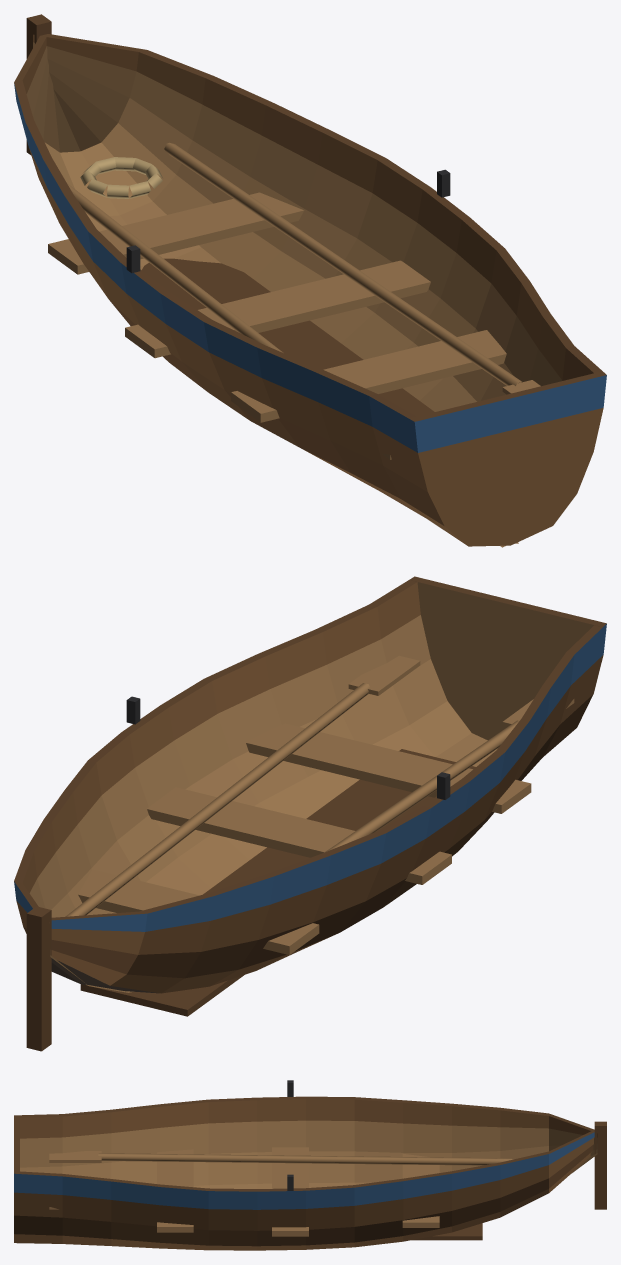
File: rowboat.glb
3 renders of one model, top to bottom at view 1: azimuth 30°, elevation 25°; view 2: azimuth 150°, elevation 25°; view 3: azimuth 270°, elevation 25°, orthographic. The views are drawn at different scales.
Visible parts, largest first — view 1: Hull; view 2: Hull; view 3: Hull.
Boxes of the visible parts, x1,y1,x2,y2 form: Hull: (14, 14, 606, 547); Hull: (14, 576, 606, 1051); Hull: (14, 1080, 606, 1250).
Size of the model in its own units: 1.49 by 0.8064 by 3.86.
Materials: 1 (1 with a texture image).
